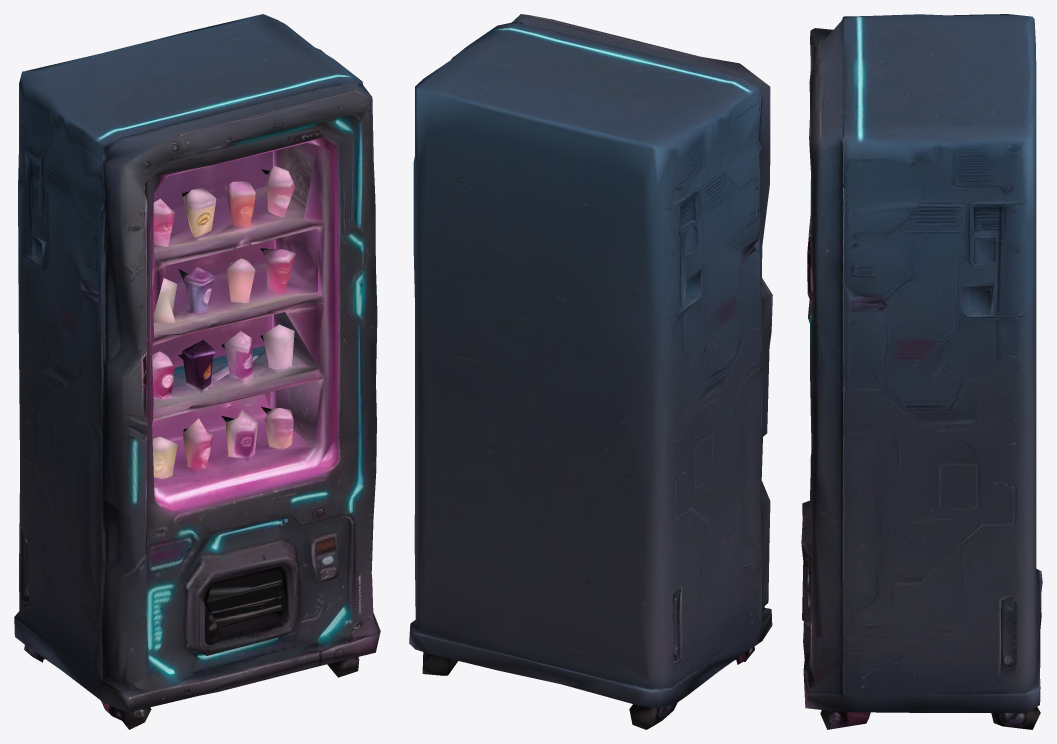
The picture shows the model from 3 angles, left to right: view 1: azimuth 30°, elevation 25°; view 2: azimuth 150°, elevation 25°; view 3: azimuth 270°, elevation 25°; orthographic projection. The views are drawn at different scales.
Parts seen in each view (by area): view 1: tripo_node_e4493c0c-72b6-48af-b0fd-525db9fd45af; view 2: tripo_node_e4493c0c-72b6-48af-b0fd-525db9fd45af; view 3: tripo_node_e4493c0c-72b6-48af-b0fd-525db9fd45af.
Part boxes in pixels (<box>): tripo_node_e4493c0c-72b6-48af-b0fd-525db9fd45af: <box>14,14,380,729</box>; tripo_node_e4493c0c-72b6-48af-b0fd-525db9fd45af: <box>409,14,772,729</box>; tripo_node_e4493c0c-72b6-48af-b0fd-525db9fd45af: <box>801,14,1042,729</box>.
Size of the model in its own units: 0.95 by 2 by 0.7213.
Materials: 1 (1 with a texture image).
